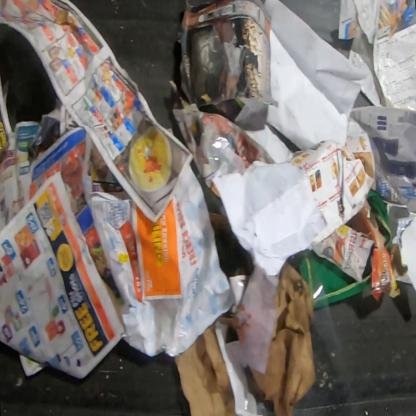cardboard: (232, 260, 316, 414), (174, 323, 235, 415)
rigid_plastic: (292, 280, 358, 416)
soft_plastic: (201, 120, 244, 180), (153, 300, 184, 358)
